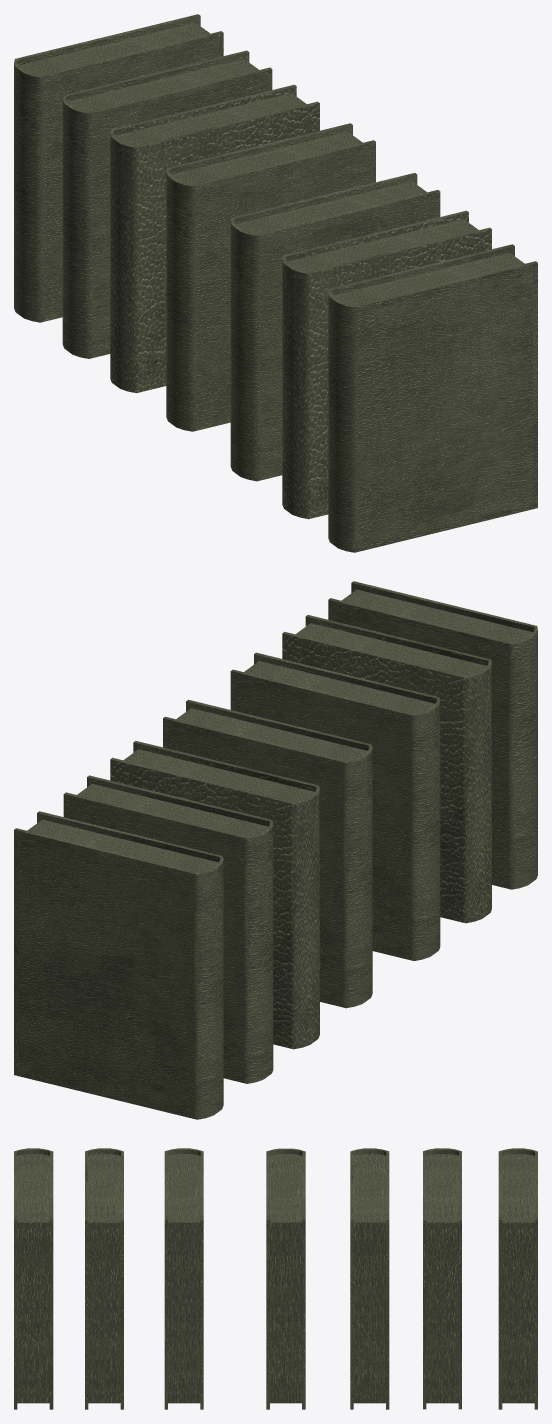
The picture shows the model from 3 angles, top to bottom: view 1: azimuth 30°, elevation 25°; view 2: azimuth 150°, elevation 25°; view 3: azimuth 270°, elevation 25°; orthographic projection. The views are drawn at different scales.
Parts seen in each view (by area): view 1: Cube.006, Cube.000, Cube.001, Cube.004, Cube.002, Cube.003, Cube.005; view 2: Cube.002, Cube.004, Cube.000, Cube.005, Cube.003, Cube.001, Cube.006; view 3: Cube.002, Cube.006, Cube.001, Cube.004, Cube.000, Cube.003, Cube.005.
Part boxes in pixels (x1,y1,x2,y2): Cube.006: (328, 244, 537, 552); Cube.000: (166, 123, 375, 431); Cube.001: (110, 84, 319, 392); Cube.004: (230, 173, 440, 481); Cube.002: (14, 14, 223, 322); Cube.003: (62, 50, 272, 358); Cube.005: (282, 210, 491, 519); Cube.002: (14, 811, 223, 1119); Cube.004: (230, 652, 440, 960); Cube.000: (163, 699, 372, 1008); Cube.005: (282, 615, 491, 923); Cube.003: (63, 775, 273, 1083); Cube.001: (110, 741, 319, 1049); Cube.006: (328, 581, 537, 889); Cube.002: (498, 1148, 537, 1409); Cube.006: (14, 1148, 53, 1409); Cube.001: (350, 1148, 389, 1409); Cube.004: (164, 1148, 203, 1409); Cube.000: (266, 1148, 305, 1409); Cube.003: (423, 1148, 461, 1409); Cube.005: (85, 1148, 123, 1409).
Size of the model in its own units: 29.45 by 35.8 by 89.56.
Materials: 8 (8 with a texture image).
